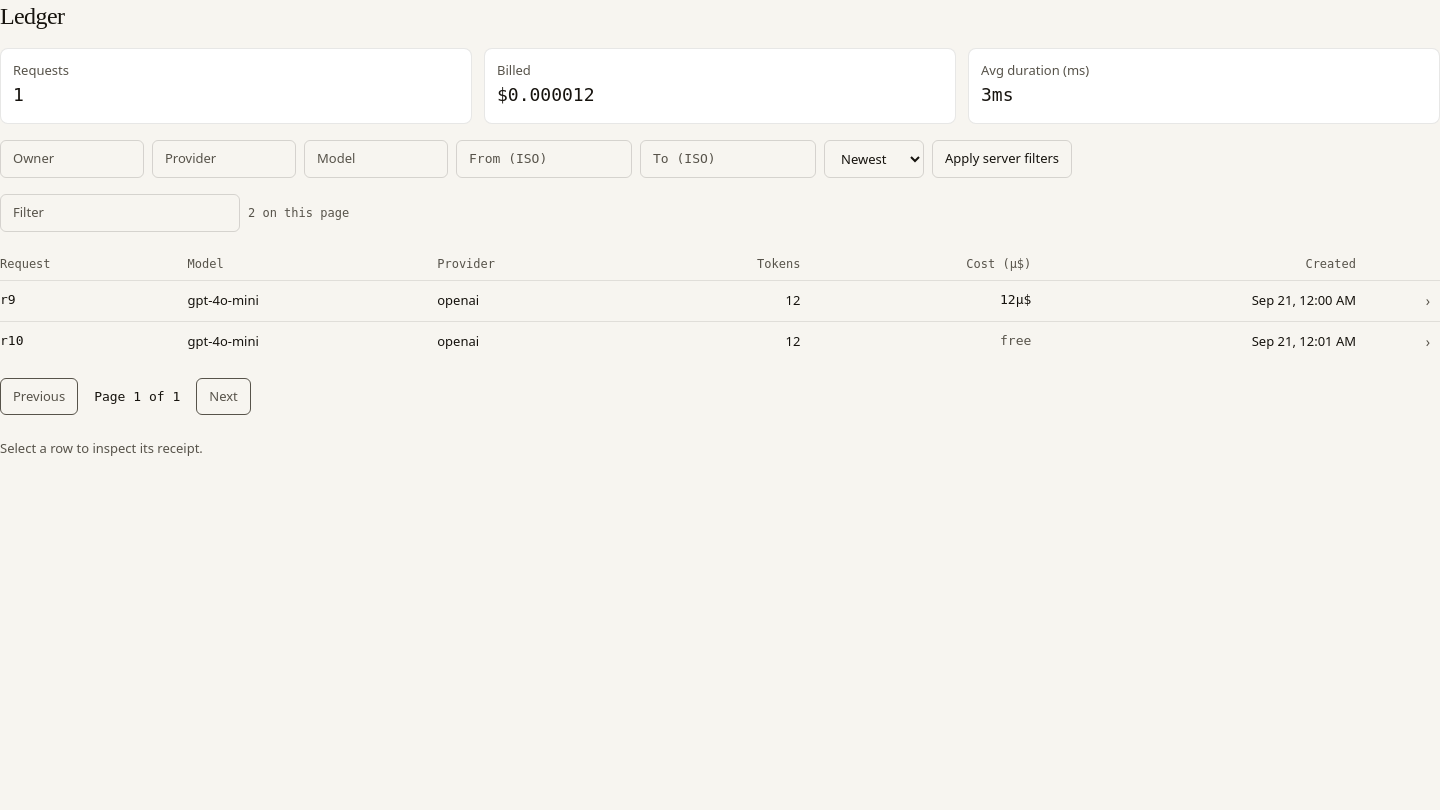
Scenario: RunInspector › closes on Escape
Click the button named "inspect receipt r9" at (1428, 300), box [1416,288,1439,312]
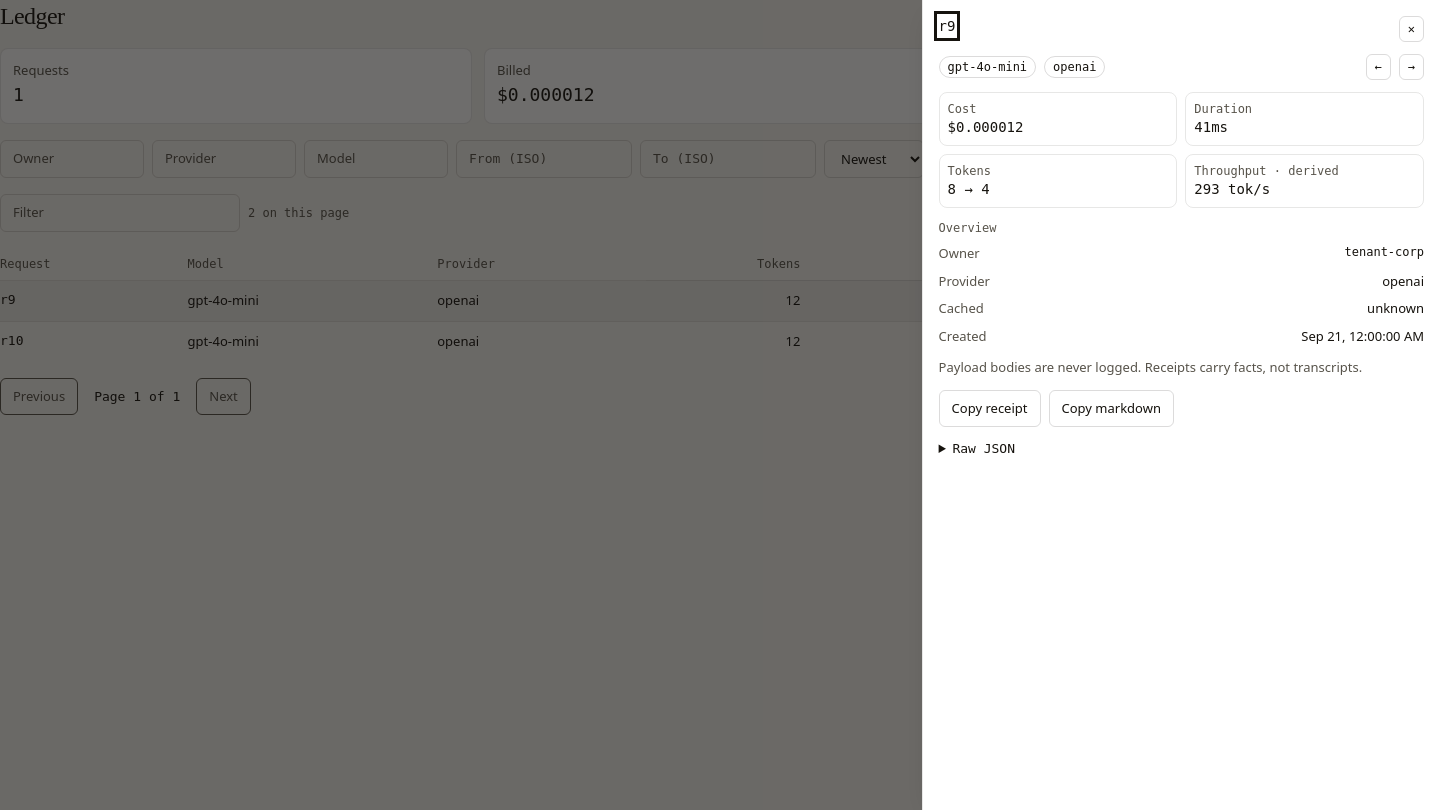
Expected: the dialog is shown, [922,0,1439,809]
Press Escape
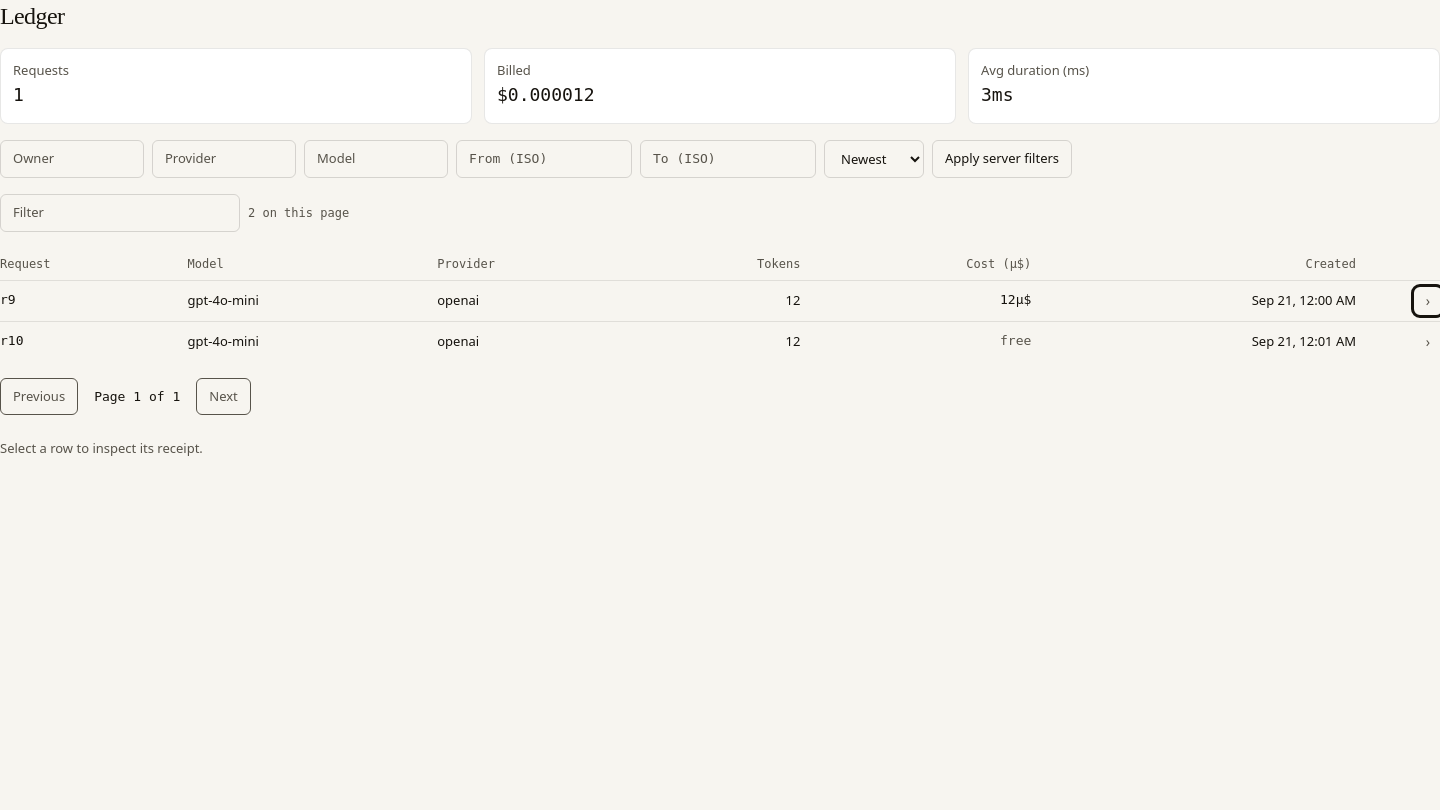
Expected: the dialog is gone
Expected: the text "Select a row to inspect its receipt." is shown, [0,439,203,457]
